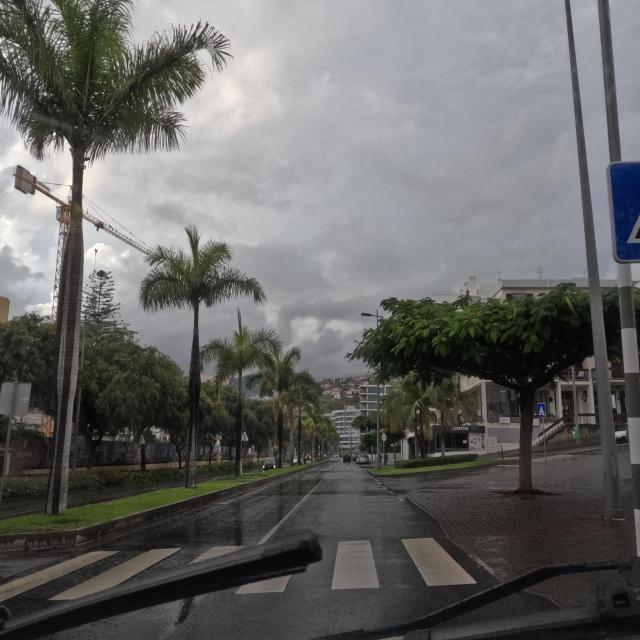car: (262, 456, 276, 469), (358, 453, 370, 465), (342, 454, 352, 464)
